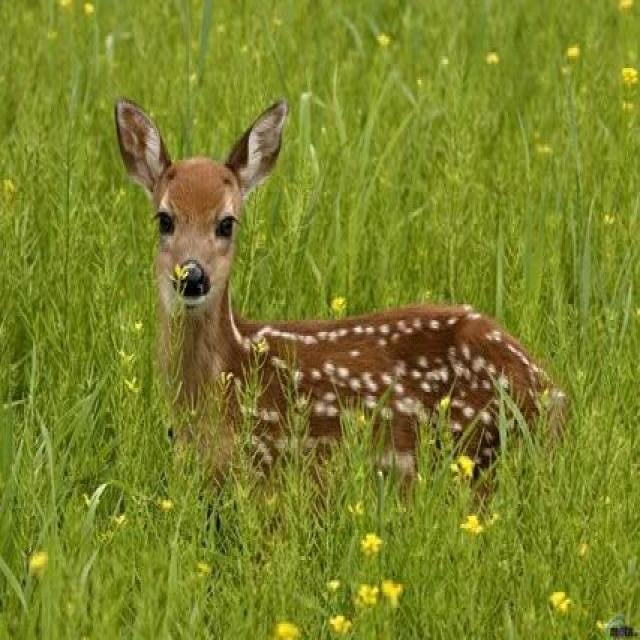deer: (118, 90, 623, 626)
